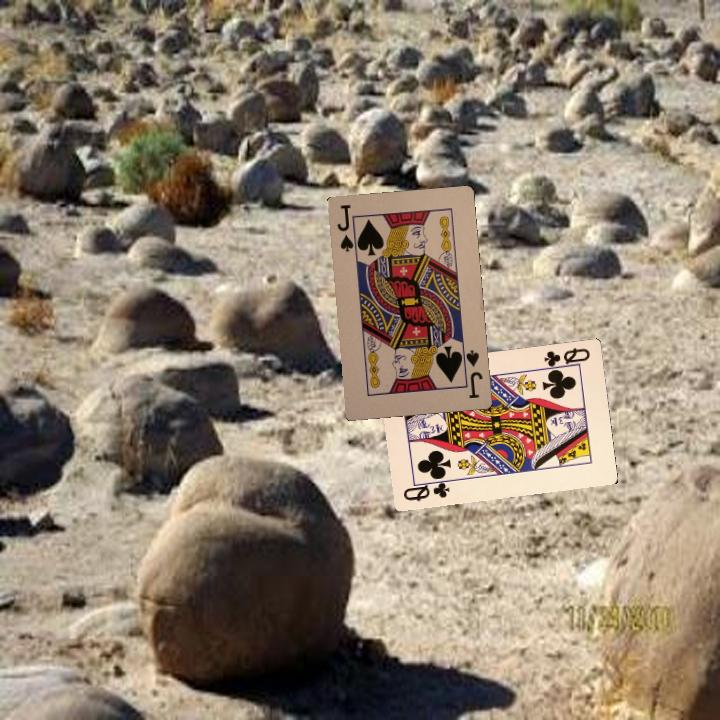Js: (333, 201, 360, 256), (458, 347, 485, 401)
Qc: (399, 475, 453, 504), (540, 343, 592, 373)
